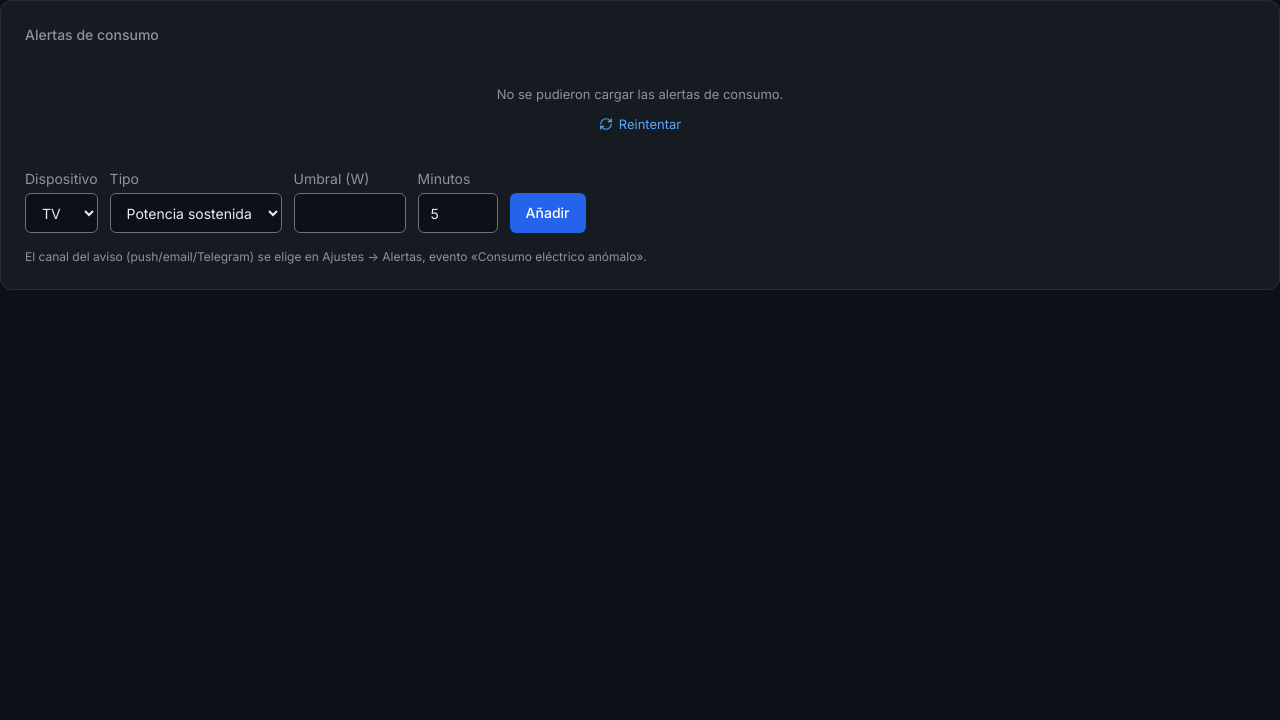
Scenario: EnergyAlertsCard (US-183) › tras fallar la lista de alertas, añadir una con éxito no deja «Datos obsoletos»
Expected: the text "No se pudieron cargar las alertas de consumo." is shown, [497,85,783,103]
In the number field labelled "Umbral": (350,213) [294,193,406,233], type "800"
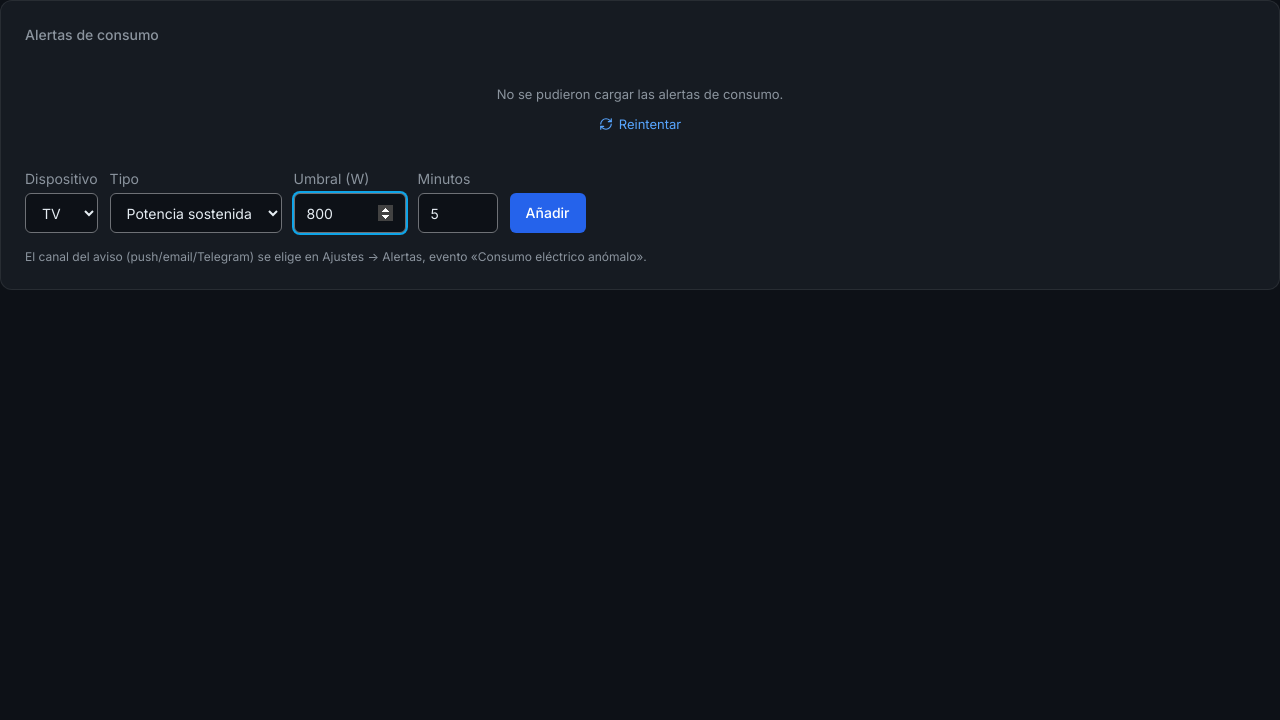
Click the button "Añadir": (548,213) [510,193,586,233]
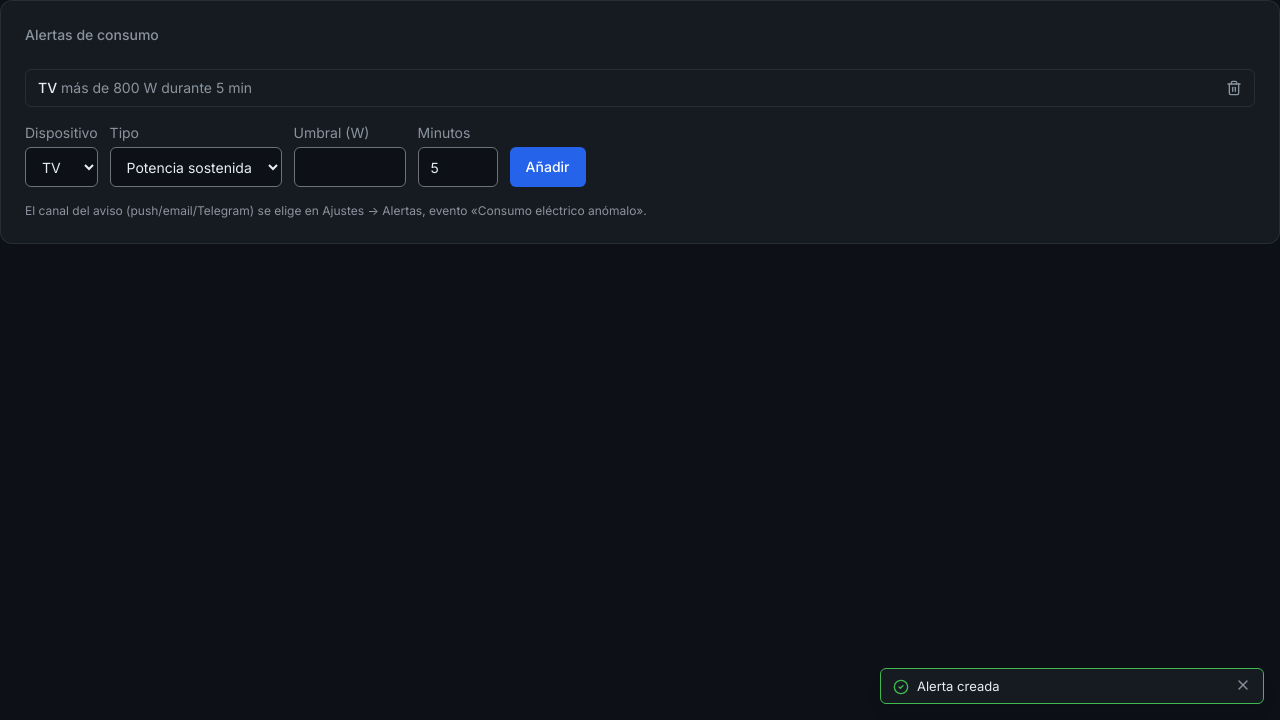
Result: the text "más de 800 W durante 5 min" is shown at [61,79,252,96]
Result: the text "No se pudieron cargar las alertas de consumo." is gone
